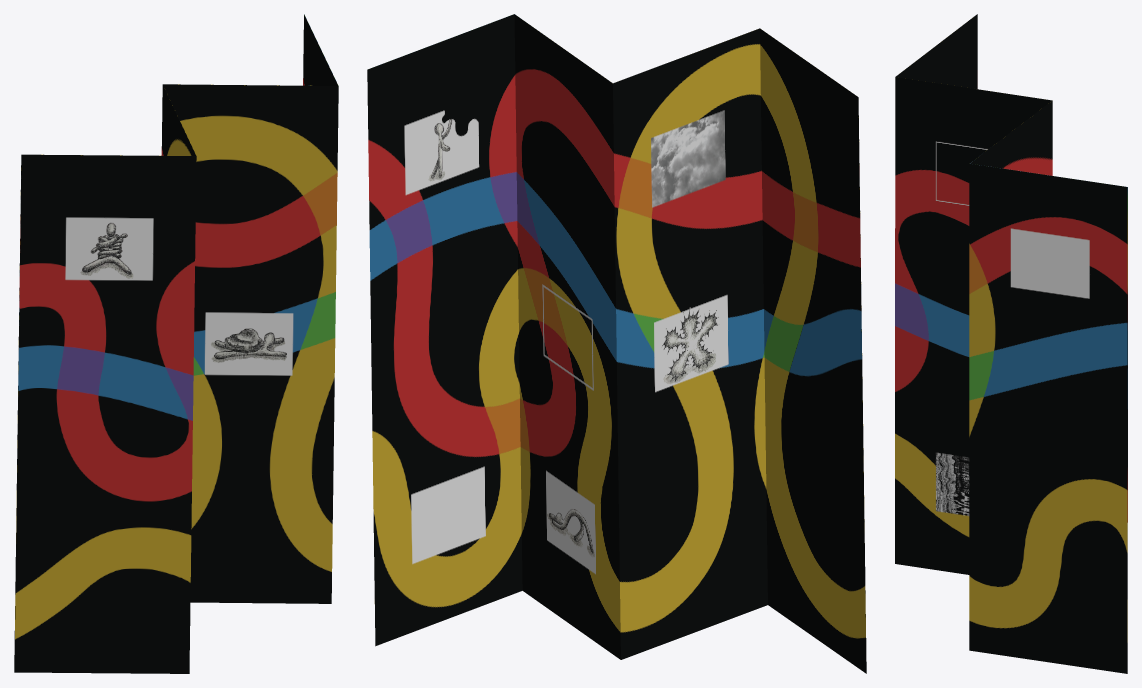
The model's file is horizont.glb.
3 views of the same model, side by side, from view 1: azimuth 30°, elevation 25°; view 2: azimuth 150°, elevation 25°; view 3: azimuth 270°, elevation 25° (orthographic). The views are drawn at different scales.
Visible parts, largest first — view 1: fanzine horizont; view 2: fanzine horizont; view 3: fanzine horizont.
Part boxes in pixels (<box>): fanzine horizont: <box>14,14,338,673</box>; fanzine horizont: <box>367,14,866,673</box>; fanzine horizont: <box>895,14,1127,673</box>.
Size of the model in its own units: 1.26 by 1.7 by 0.7259.
2 materials, 2 textured.
